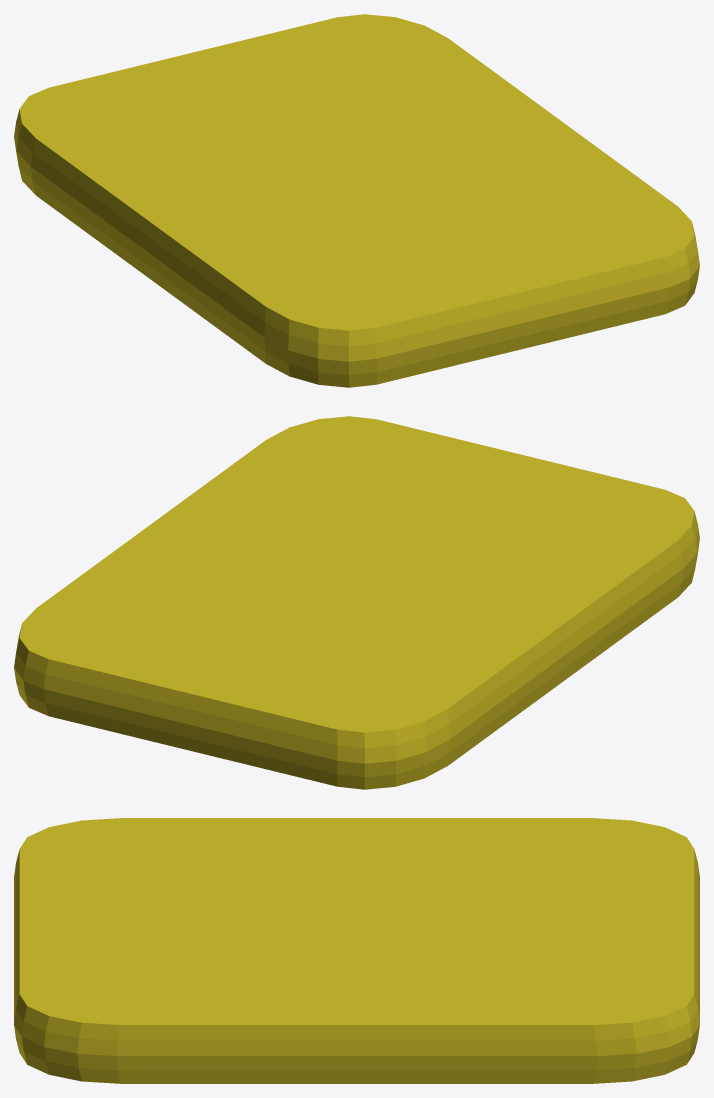
File: Game Table.fbx
3 views of the same model, one above another, from view 1: azimuth 30°, elevation 25°; view 2: azimuth 150°, elevation 25°; view 3: azimuth 270°, elevation 25° (orthographic). The views are drawn at different scales.
Parts seen in each view (by area): view 1: Table; view 2: Table; view 3: Table.
Part boxes in pixels (x1=…): Table: x1=14, y1=14, x2=699, y2=387; Table: x1=14, y1=416, x2=699, y2=789; Table: x1=14, y1=818, x2=699, y2=1083.
Bounding box in the file's own units: 147 × 19.22 × 203.
